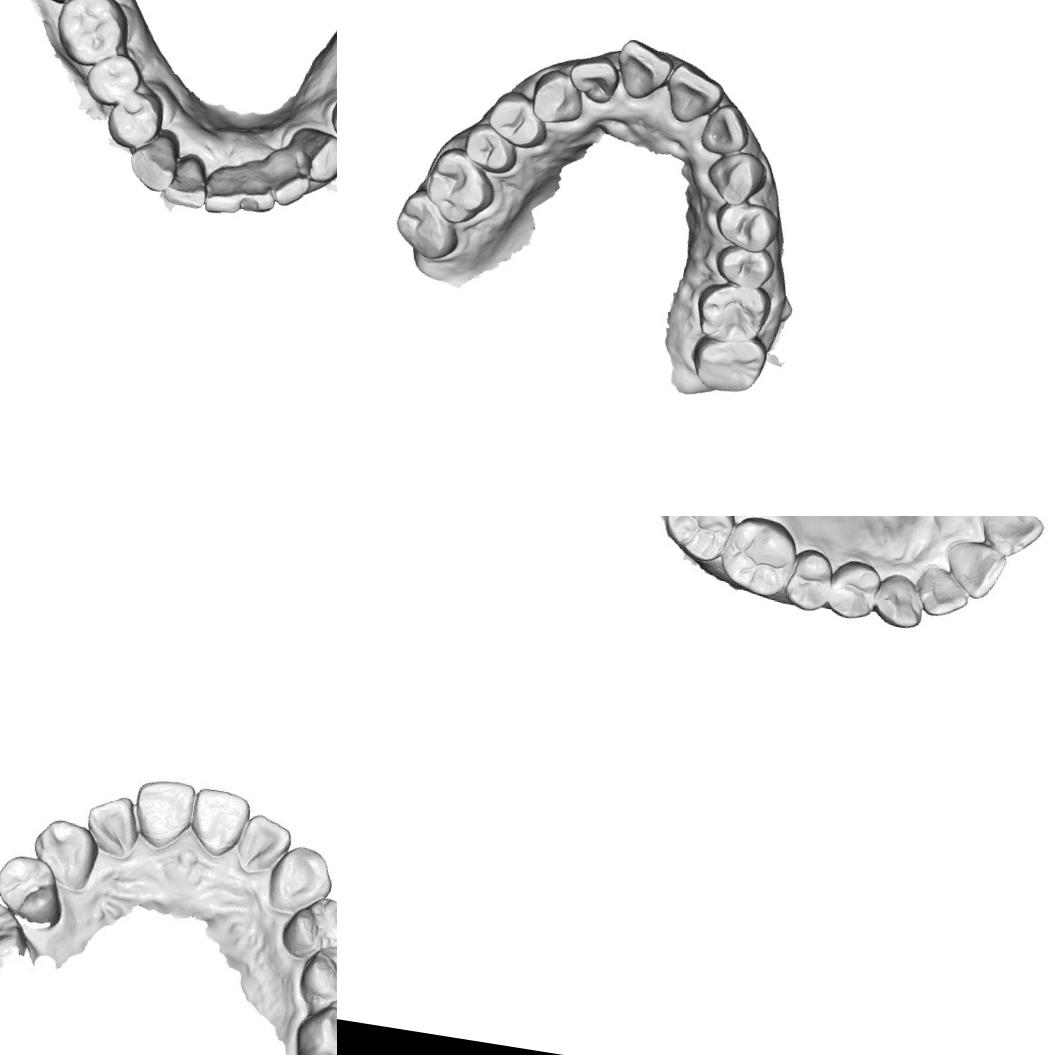canine: (26, 812, 104, 891), (265, 840, 337, 918), (701, 144, 770, 210), (124, 123, 184, 196), (527, 66, 589, 128), (871, 569, 931, 632), (287, 124, 337, 187)
incisor: (126, 774, 200, 849), (185, 782, 254, 857), (78, 790, 147, 864), (661, 60, 728, 128), (611, 36, 676, 104), (942, 538, 1010, 602), (232, 808, 294, 876), (917, 563, 976, 622), (698, 100, 754, 160), (160, 149, 213, 212), (973, 516, 1048, 559), (565, 52, 624, 106), (265, 158, 315, 212), (200, 164, 248, 218), (235, 166, 281, 220)
molar: (714, 516, 799, 600), (420, 142, 502, 229), (390, 185, 467, 265), (51, 0, 134, 71), (691, 278, 775, 348), (688, 330, 769, 398), (654, 516, 736, 564), (288, 992, 337, 1055), (0, 891, 29, 994)
premolar: (0, 850, 70, 926), (278, 890, 337, 967), (484, 86, 553, 151), (709, 197, 785, 255), (778, 544, 840, 614), (824, 556, 886, 624), (104, 88, 165, 155), (81, 47, 145, 109), (710, 240, 779, 294), (459, 119, 522, 177), (296, 939, 337, 1012)
